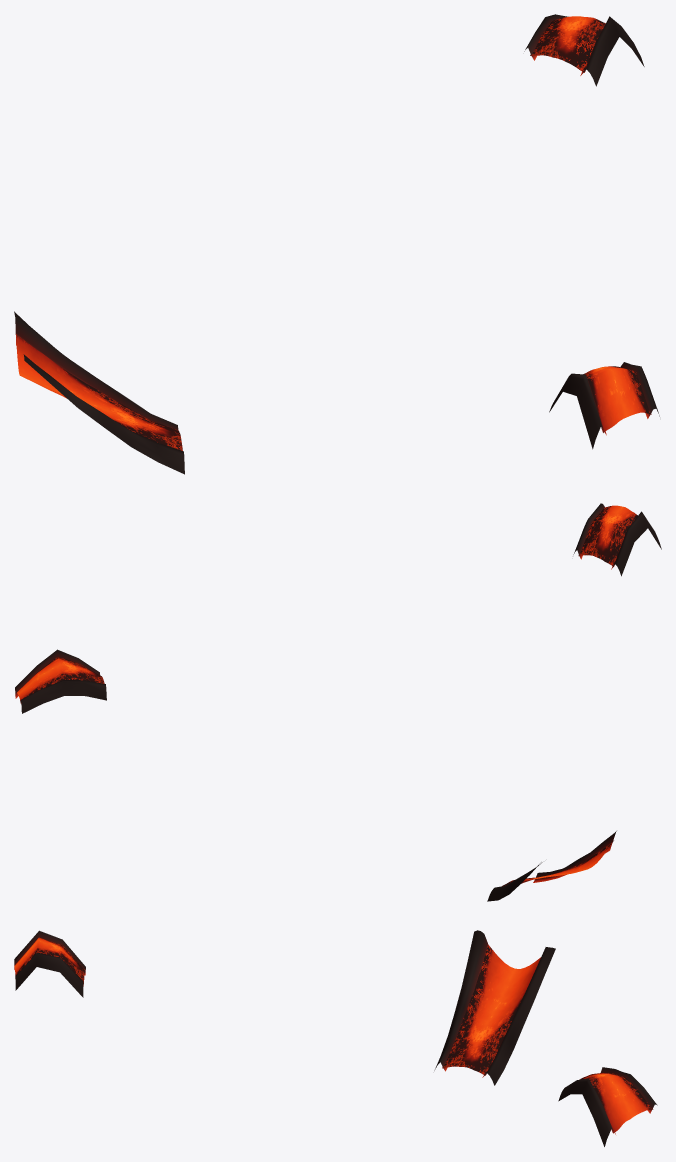
The model's file is lava_seg_0.glb.
The picture shows the model from 3 angles, top to bottom: view 1: azimuth 30°, elevation 25°; view 2: azimuth 150°, elevation 25°; view 3: azimuth 270°, elevation 25°; orthographic projection. The views are drawn at different scales.
Parts seen in each view (by area): view 1: seg; view 2: seg; view 3: seg.
Boxes of the visible parts, box(x1,y1,x2,y2) form: seg: box(14, 14, 659, 474); seg: box(15, 503, 661, 901); seg: box(14, 930, 657, 1146).
Bounding box in the file's own units: 34.31 × 12.01 × 36.38.
